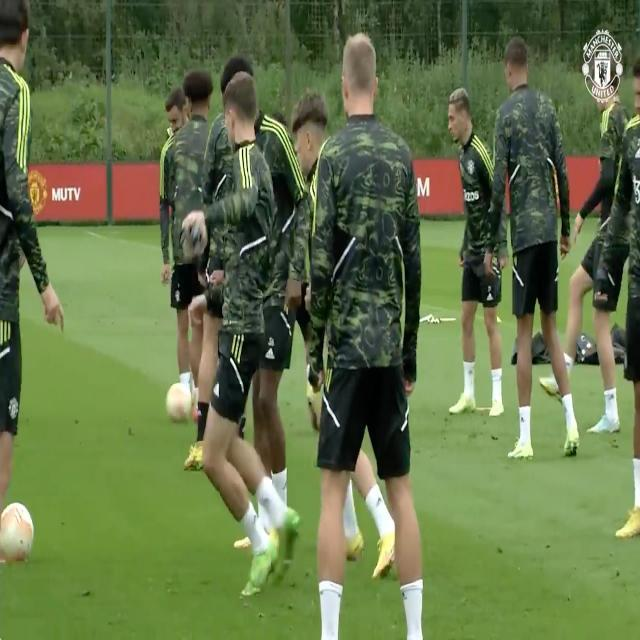Adidas: (213, 380, 222, 400), (376, 492, 385, 510), (266, 347, 275, 360)
